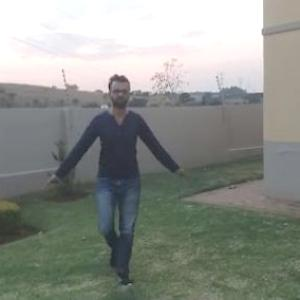land: (43, 64, 189, 288)
